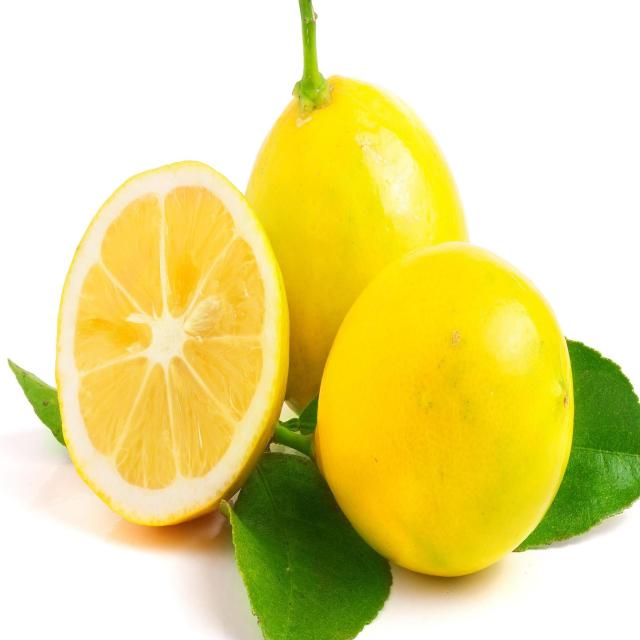lemon: (306, 235, 577, 584), (53, 153, 294, 532)
